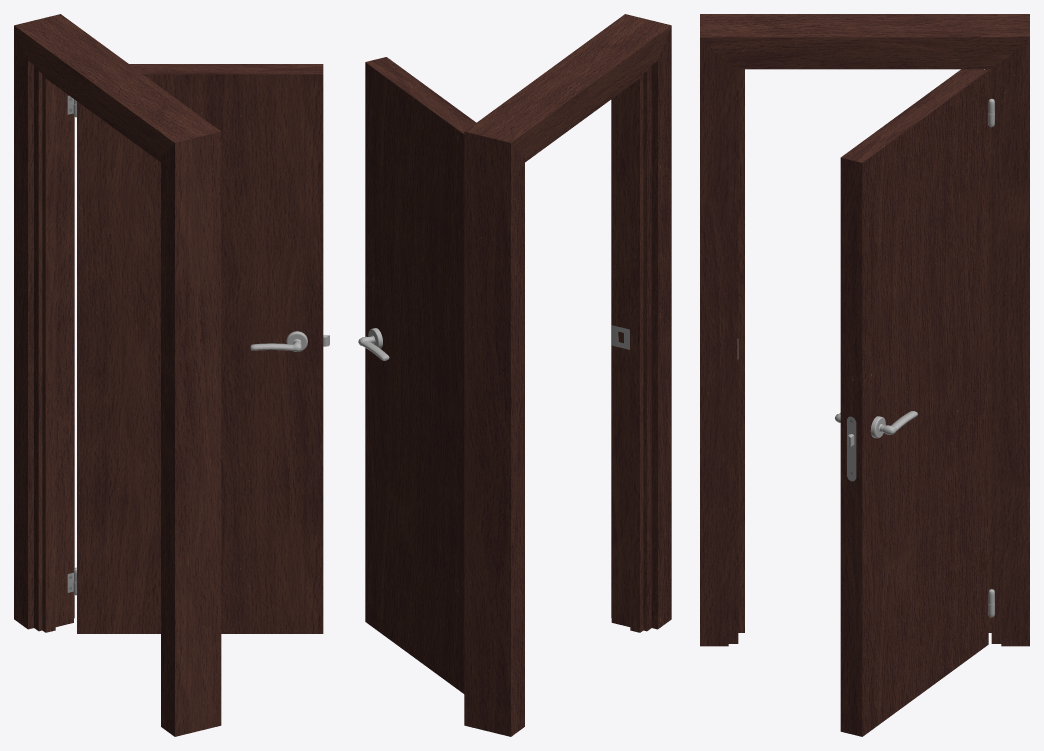
The model's file is door 1 opened.glb.
3 views of the same model, side by side, from view 1: azimuth 30°, elevation 25°; view 2: azimuth 150°, elevation 25°; view 3: azimuth 270°, elevation 25° (orthographic). The views are drawn at different scales.
Parts seen in each view (by area): view 1: D1-Preview; view 2: D1-Preview; view 3: D1-Preview.
Part boxes in pixels (left/top/right/bottom): D1-Preview: left=14, top=14, right=329, bottom=736; D1-Preview: left=358, top=14, right=671, bottom=736; D1-Preview: left=700, top=14, right=1029, bottom=736.
Bounding box in the file's own units: 2.13 × 5.3 × 2.6.
1 material, 1 textured.
